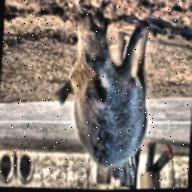boar: (38, 2, 160, 177)
